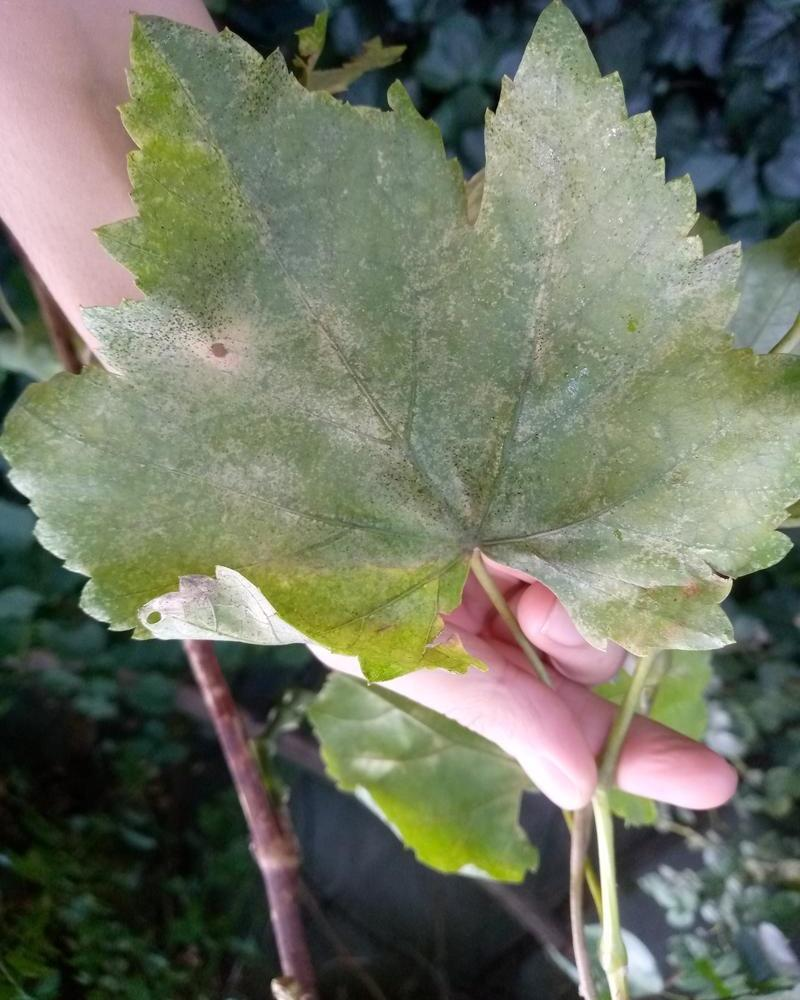Powdery-Mildew: (493, 31, 747, 361), (591, 416, 799, 610), (483, 423, 729, 547), (482, 424, 728, 548), (31, 380, 190, 556), (129, 456, 428, 536), (328, 553, 466, 632), (298, 382, 420, 465), (192, 296, 284, 399), (277, 274, 367, 371), (80, 296, 190, 375), (21, 405, 118, 457)
